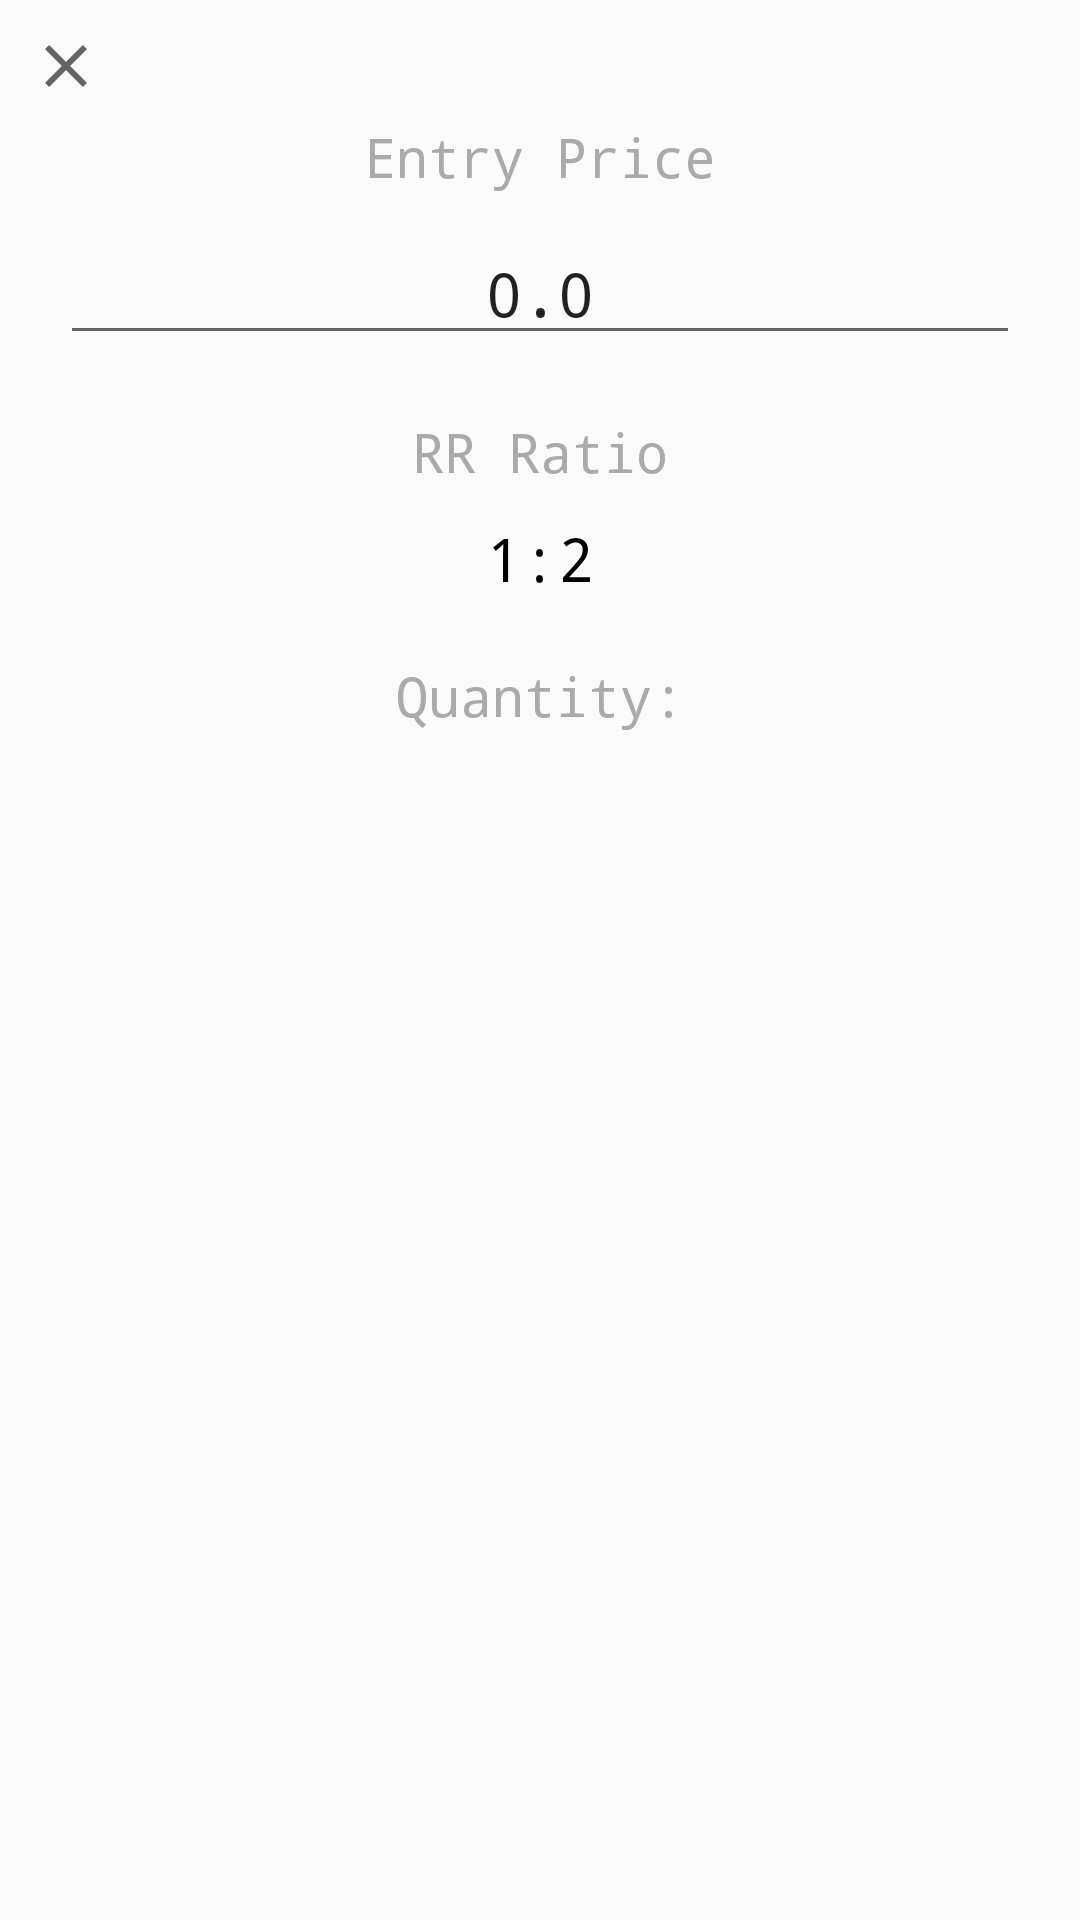

Locate icon controls on the screen. Image size 1080px×1920px, boxes as [x1,y1,x2,y2].
close: [45,45,87,87]
